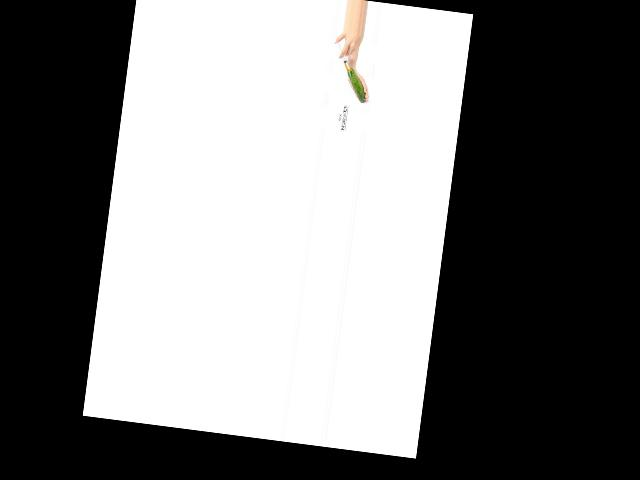cucumber: (343, 67, 369, 102)
